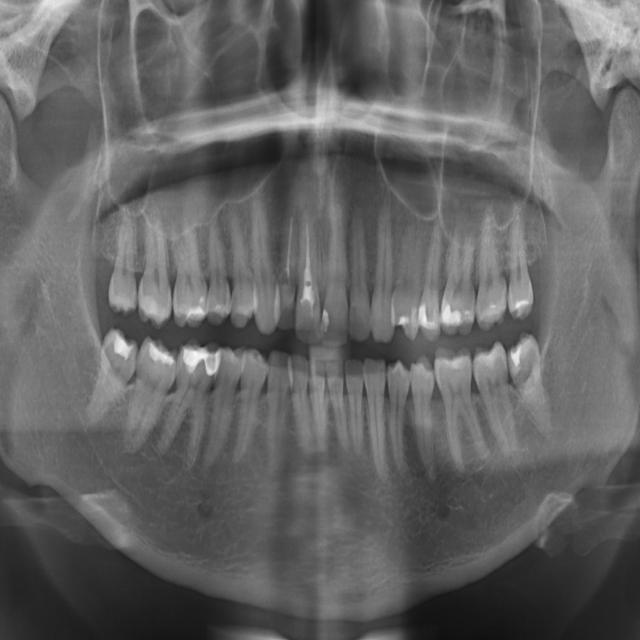3M ESPE Implant: (108, 204, 137, 316)
AGS Medikal Implant: (349, 200, 372, 343)
AMerOss Implant: (372, 185, 396, 344)
Amalgam filling: (391, 209, 423, 343)
Anthogyr Implant: (420, 213, 441, 341)
Bicon Implant: (439, 208, 480, 338)
BioHorizons Implant: (475, 202, 510, 334)
BioLife Implant: (508, 208, 535, 322)
Biomet 3i Implant: (503, 329, 554, 443)
Blue Sky Bio Implant: (514, 449, 514, 450)
Camlog Implant: (429, 342, 494, 478)
Caries: (137, 199, 173, 328)
Composite filling: (409, 352, 438, 483)
Cowellmedi Implant: (386, 359, 416, 488)
Crown: (363, 354, 390, 488)
DENTSPLY Implant: (343, 356, 368, 460)
Dentatus Implant: (324, 356, 351, 458)
Dentis Implant: (308, 355, 328, 455)
Dentium Implant: (288, 353, 316, 464)
Euroteknika Implant: (265, 348, 292, 478)
Filling: (222, 346, 271, 469)
Frontier Implant: (199, 341, 247, 478)
Hiossen Implant: (169, 213, 208, 329)
Implant: (121, 334, 182, 461)
Implant Direct: (151, 333, 222, 471)
Keystone Dental Implant: (79, 324, 144, 440)
MIS Implant: (206, 205, 232, 328)
Mandible: (227, 210, 254, 330)
Maxilla: (247, 177, 279, 336)
Megagen Implant: (273, 177, 304, 330)
Neodent Implant: (294, 174, 322, 347)
Neoss Implant: (321, 166, 353, 351)
